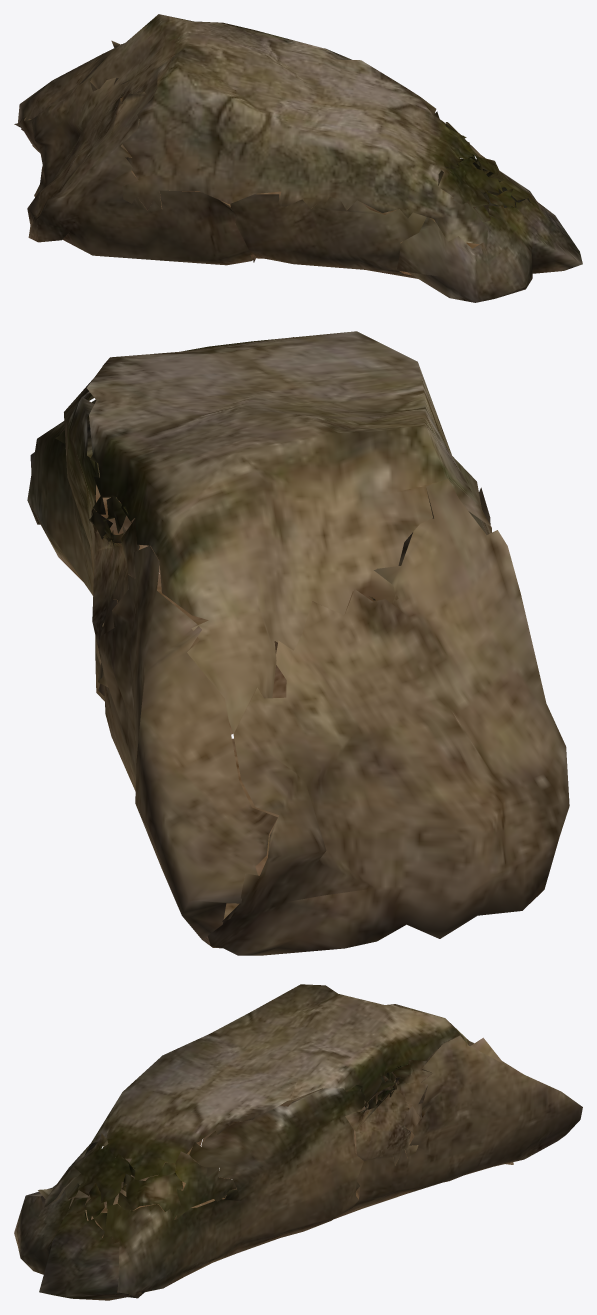
File: rock_moss_set_01_1.glb
3 renders of one model, top to bottom at view 1: azimuth 30°, elevation 25°; view 2: azimuth 150°, elevation 25°; view 3: azimuth 270°, elevation 25°, orthographic. The views are drawn at different scales.
Parts seen in each view (by area): view 1: rock_moss_set_01_rock02; view 2: rock_moss_set_01_rock02; view 3: rock_moss_set_01_rock02.
Boxes of the visible parts, box(x1,y1,x2,y2) form: rock_moss_set_01_rock02: box(14, 14, 582, 302); rock_moss_set_01_rock02: box(27, 331, 569, 955); rock_moss_set_01_rock02: box(14, 984, 582, 1300).
Bounding box in the file's own units: 2.65 × 1.24 × 3.27.
Materials: 1 (1 with a texture image).
